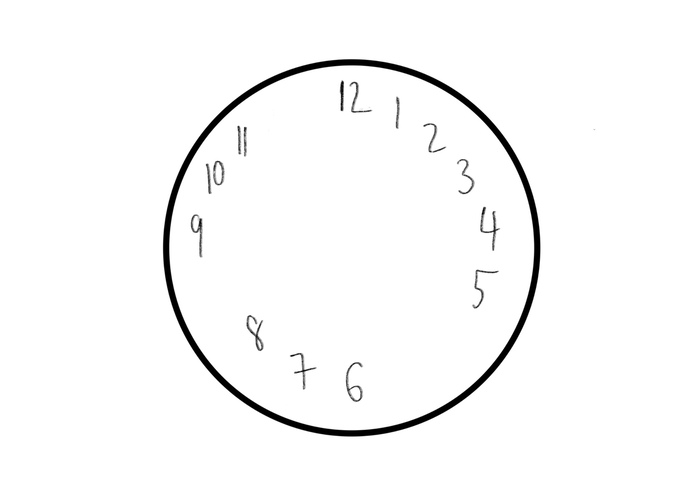eight: (238, 307, 272, 361)
eleven: (234, 119, 254, 159)
five: (469, 260, 502, 313)
four: (474, 203, 503, 254)
nine: (185, 210, 209, 260)
one: (388, 89, 407, 133)
seven: (286, 343, 321, 396)
six: (340, 354, 369, 410)
ten: (201, 159, 230, 194)
three: (452, 153, 478, 200)
twelve: (335, 74, 375, 122)
two: (420, 112, 447, 158)
